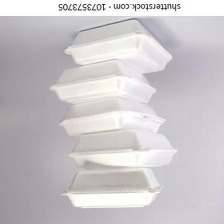foam_box: (62, 16, 176, 78), (46, 55, 159, 109), (57, 162, 168, 213), (65, 126, 182, 174), (55, 95, 170, 139)
